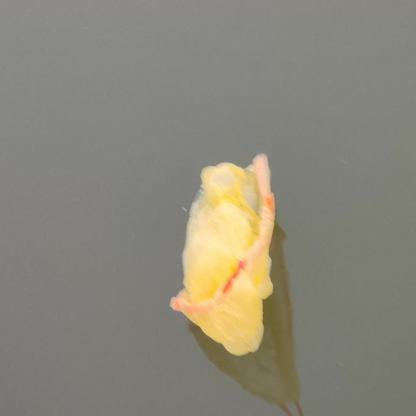plastic bag: (169, 153, 276, 354)
